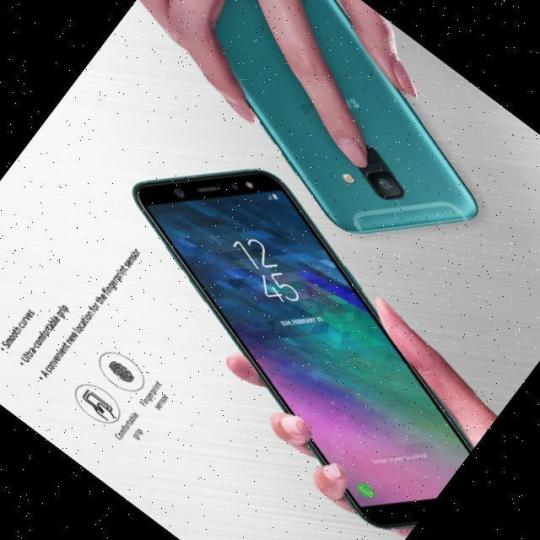phone: (101, 164, 497, 517), (195, 15, 513, 244)
